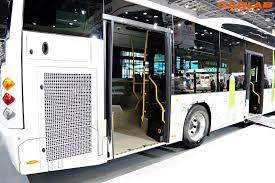entrance: (103, 16, 170, 154)
